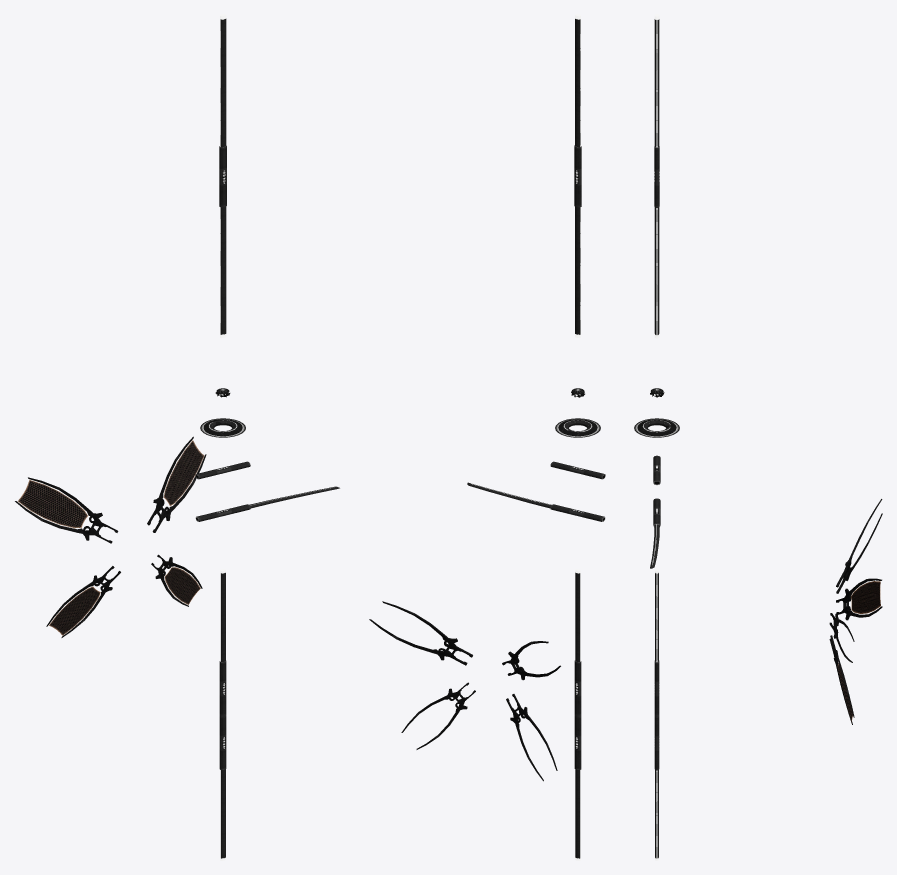
File: vector-arsenal.glb
The picture shows the model from 3 angles, left to right: view 1: azimuth 30°, elevation 25°; view 2: azimuth 150°, elevation 25°; view 3: azimuth 270°, elevation 25°; orthographic projection.
Visible parts, largest first — view 1: wings.dmx, Staff.smd, Double_Baton.smd, katana.smd; view 2: wings.dmx, Staff.smd, Double_Baton.smd, katana.smd, disc.smd; view 3: wings.dmx, Staff.smd, Double_Baton.smd.
Boxes of the visible parts, x1=… form: wings.dmx: x1=15, y1=436, x2=206, y2=637; Staff.smd: x1=219, y1=14, x2=226, y2=338; Double_Baton.smd: x1=219, y1=569, x2=226, y2=860; katana.smd: x1=195, y1=486, x2=339, y2=521; wings.dmx: x1=369, y1=601, x2=560, y2=781; Staff.smd: x1=574, y1=14, x2=581, y2=338; Double_Baton.smd: x1=574, y1=569, x2=581, y2=860; katana.smd: x1=467, y1=482, x2=605, y2=521; disc.smd: x1=558, y1=419, x2=597, y2=436; wings.dmx: x1=829, y1=499, x2=882, y2=724; Staff.smd: x1=654, y1=14, x2=659, y2=338; Double_Baton.smd: x1=654, y1=568, x2=659, y2=860.
Bounding box in the file's own units: 1.36 × 5.23 × 1.4.
7 materials, 7 textured.
